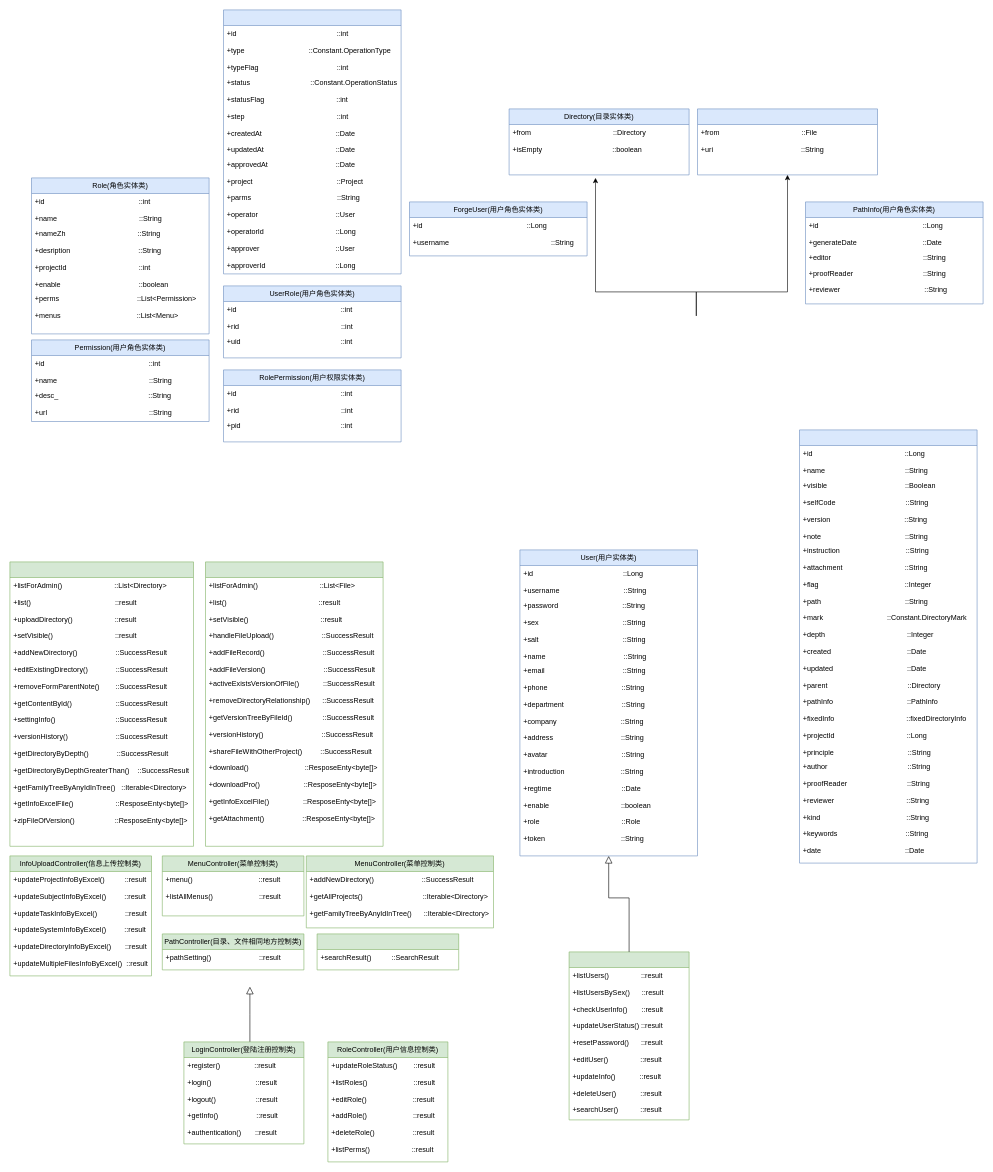
Some shapes in this 993 by 1172 pixel diagram are drawn without their labels. The box of each missing label's shape, as (x1, y1, x2, y2) in pixels:
ApplyApprove(角色实体类): (223, 9, 401, 274)
DirectoryController(目录控制类): (9, 561, 194, 846)
File(文件实体类): (697, 108, 878, 175)
FileController(文件控制类): (205, 561, 383, 846)
Path(目录、文件实体继承类): (799, 429, 977, 863)
SearchController(检索控制类): (316, 933, 459, 970)
UserController(用户信息控制类): (568, 951, 689, 1120)
